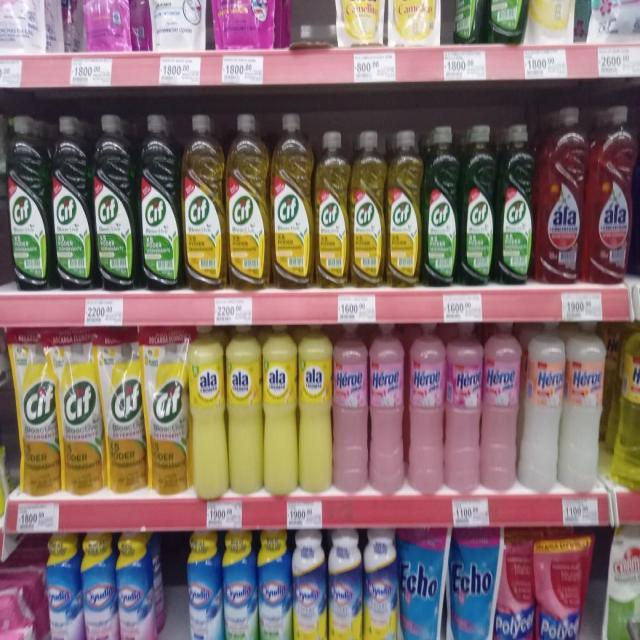ala_conc_rojo: (537, 106, 584, 288), (586, 104, 632, 286), (634, 104, 640, 282)
ala_crem_amarillo: (189, 325, 226, 501), (227, 324, 262, 497), (263, 324, 297, 497), (298, 325, 332, 495)
cif_conc_bot_amarilla: (182, 112, 225, 292), (226, 112, 269, 291), (272, 112, 312, 290), (350, 129, 385, 288), (314, 128, 348, 290), (387, 128, 421, 289)
cif_conc_botella_verde: (138, 113, 180, 292), (94, 113, 136, 291), (51, 114, 92, 291), (8, 114, 49, 291), (497, 121, 534, 286), (461, 122, 495, 288), (424, 124, 458, 289), (488, 0, 530, 45), (451, 0, 486, 45), (0, 103, 7, 288)
cif_conc_sachet_amarillo: (16, 330, 58, 498), (146, 328, 188, 496), (60, 333, 102, 497), (104, 333, 145, 496)
drive: (210, 0, 281, 51)
heroe: (562, 319, 606, 493), (522, 321, 562, 494), (482, 322, 520, 494), (408, 321, 444, 496), (446, 321, 481, 495), (333, 322, 368, 495), (370, 323, 405, 495), (613, 319, 640, 492)
